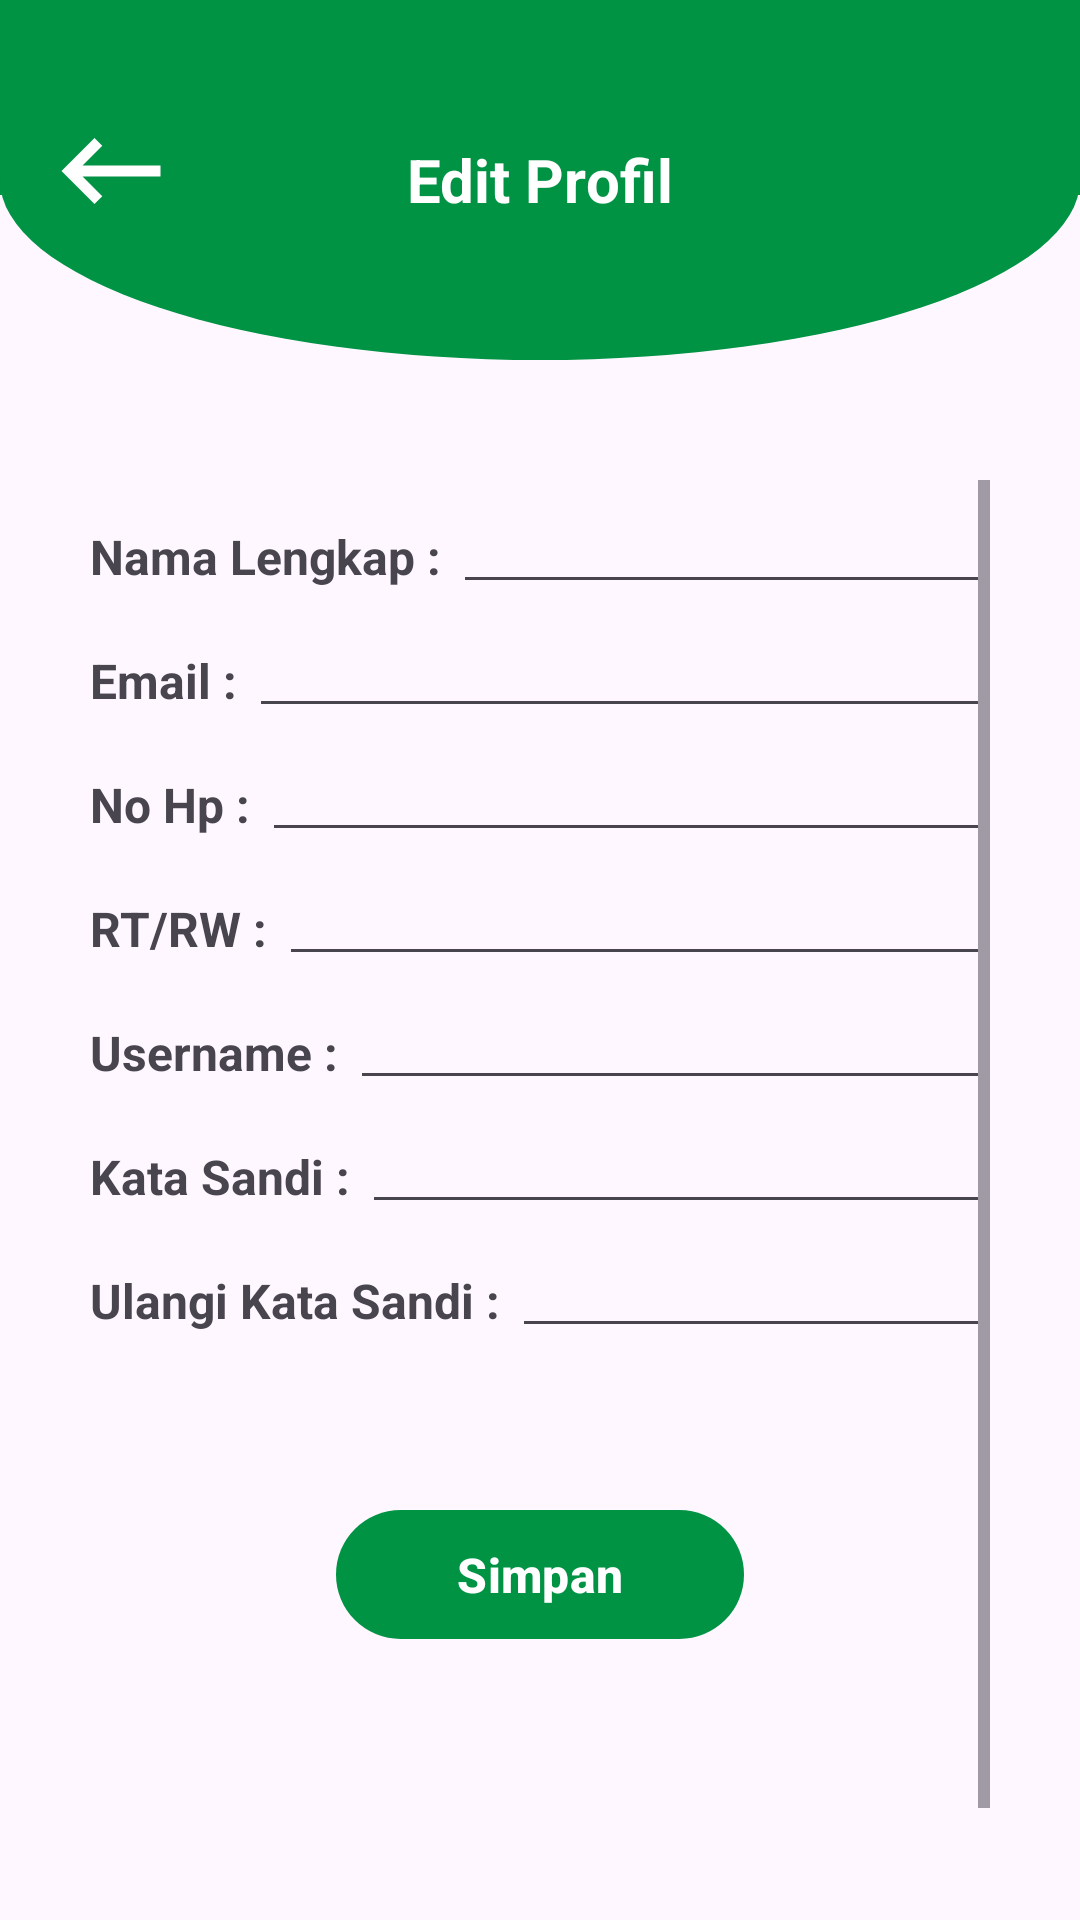

Icons on this 1080w x 1920h Android screen, each with the point to tap as [x,y]:
keyboard backspace: [111,171]
